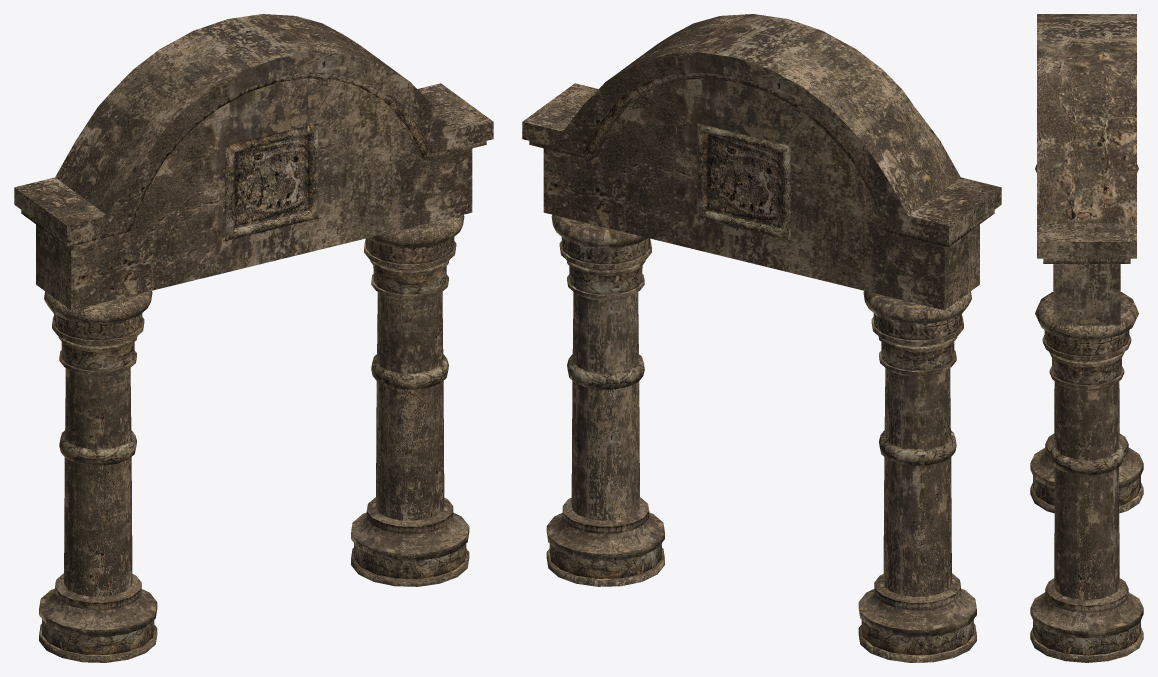
File: materials_5_gate_5.fbx
The picture shows the model from 3 angles, left to right: view 1: azimuth 30°, elevation 25°; view 2: azimuth 150°, elevation 25°; view 3: azimuth 270°, elevation 25°; orthographic projection. The views are drawn at different scales.
Parts seen in each view (by area): view 1: materials_5_gate_5; view 2: materials_5_gate_5; view 3: materials_5_gate_5.
Part boxes in pixels (x1,y1,x2,y2): materials_5_gate_5: (14, 14, 493, 662); materials_5_gate_5: (522, 14, 1001, 662); materials_5_gate_5: (1030, 14, 1143, 662).
Bounding box in the file's own units: 517 × 650 × 125.
